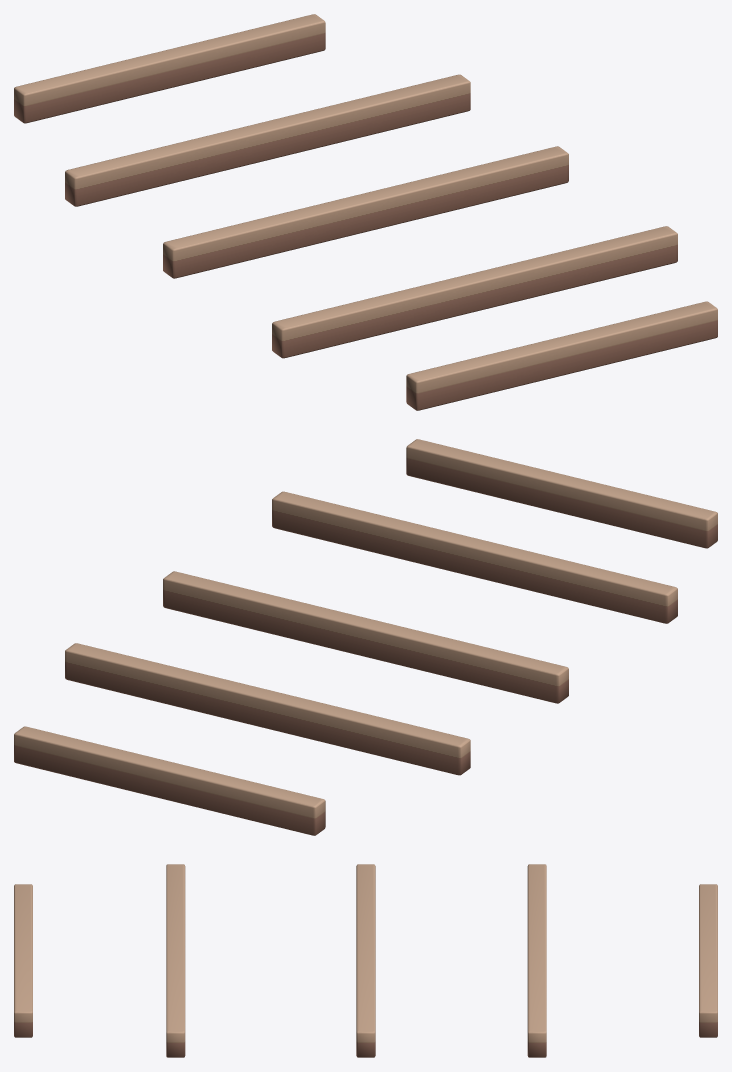
File: Props.fbx
The picture shows the model from 3 angles, top to bottom: view 1: azimuth 30°, elevation 25°; view 2: azimuth 150°, elevation 25°; view 3: azimuth 270°, elevation 25°; orthographic projection. The views are drawn at different scales.
Visible parts, largest first — view 1: Box20-3_1 (4), Box20-3_1 (3), Box20-3_1 (2), Box20-3_1 (5), Box20-3_1 (6); view 2: Box20-3_1 (4), Box20-3_1 (3), Box20-3_1 (2), Box20-3_1 (5), Box20-3_1 (6); view 3: Box20-3_1 (2), Box20-3_1 (3), Box20-3_1 (4), Box20-3_1 (5), Box20-3_1 (6).
Part boxes in pixels (x1,y1,x2,y2): Box20-3_1 (4): [65, 74, 470, 206]; Box20-3_1 (3): [272, 226, 677, 358]; Box20-3_1 (2): [163, 146, 568, 278]; Box20-3_1 (5): [14, 14, 325, 123]; Box20-3_1 (6): [406, 301, 717, 410]; Box20-3_1 (4): [65, 643, 470, 775]; Box20-3_1 (3): [272, 491, 677, 623]; Box20-3_1 (2): [163, 571, 568, 703]; Box20-3_1 (5): [14, 726, 325, 835]; Box20-3_1 (6): [406, 439, 717, 548]; Box20-3_1 (2): [356, 864, 375, 1057]; Box20-3_1 (3): [166, 864, 185, 1057]; Box20-3_1 (4): [527, 864, 546, 1057]; Box20-3_1 (5): [699, 884, 717, 1037]; Box20-3_1 (6): [14, 884, 32, 1037].
Bounding box in the file's own units: 21 × 1.5 × 37.
